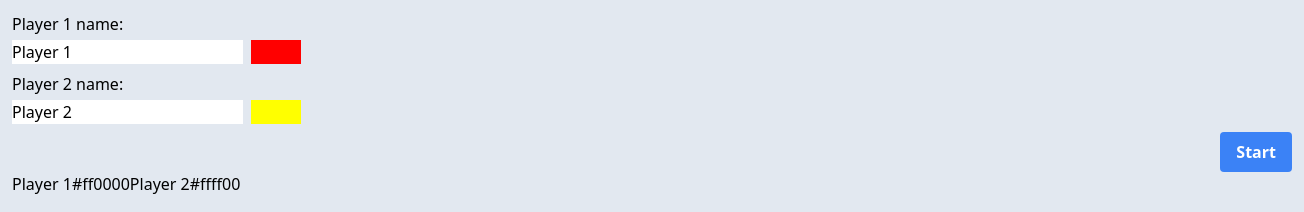
GameSettings › updating player 1 color should work
Type "#282d55" into the colour field named "Player 1 color" at point(276, 52), box [251,40,301,64]
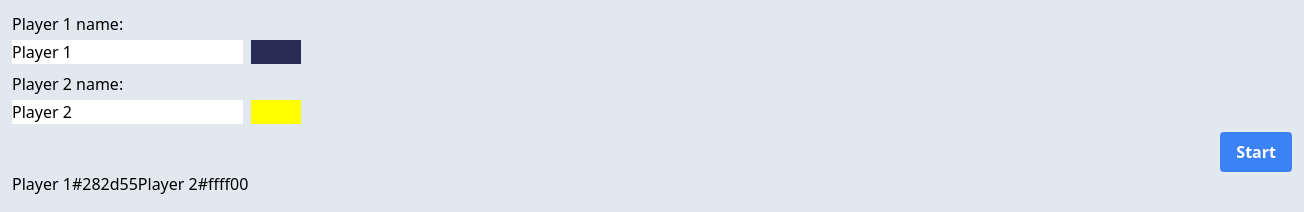
Check: the text with test id "player1Color" reads "#282d55", box [72,173,138,195]
